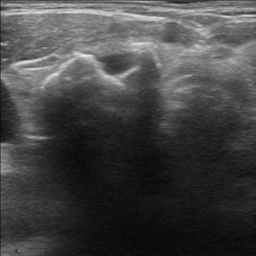mass: (40, 54, 157, 137)
